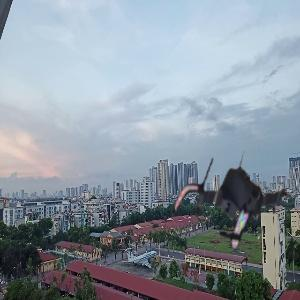drone: (174, 147, 291, 264)
